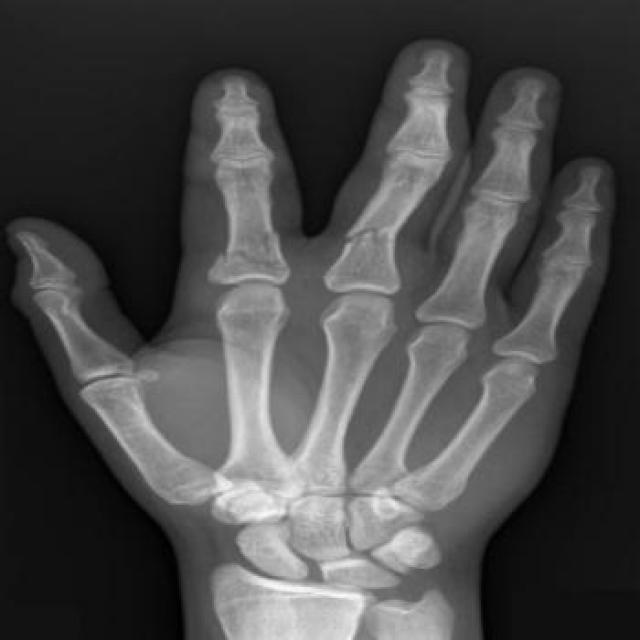fracture: (211, 234, 305, 273), (336, 218, 406, 260)
